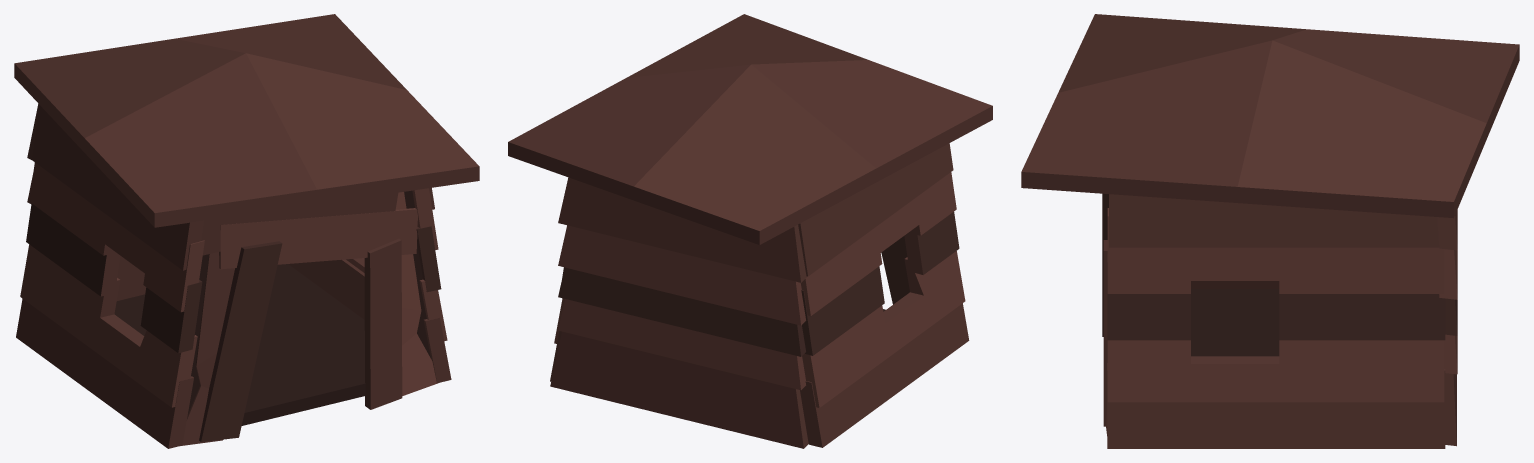
Rendered from treehouse.glb.
3 renders of one model, left to right at view 1: azimuth 30°, elevation 25°; view 2: azimuth 150°, elevation 25°; view 3: azimuth 270°, elevation 25°, orthographic. The views are drawn at different scales.
Visible parts, largest first — view 1: Cube.010, Cube.012, Cube.024, Cube.002, Cube.001, Cube.003, Cube.009, Cube.007, Cube.004, Cube.006, Cube.022, Cube.008 (+1 smaller); view 2: Cube.010, Cube.022, Cube.012, Cube.002; view 3: Cube.010, Cube.009, Cube.024, Cube.022, Cube.003, Cube.012.
Part boxes in pixels (x1=…): Cube.010: x1=14, y1=14, x2=479, y2=227; Cube.012: x1=16, y1=105, x2=204, y2=448; Cube.024: x1=114, y1=264, x2=365, y2=425; Cube.002: x1=199, y1=241, x2=282, y2=441; Cube.001: x1=219, y1=208, x2=417, y2=269; Cube.003: x1=364, y1=238, x2=402, y2=409; Cube.009: x1=288, y1=188, x2=451, y2=383; Cube.007: x1=181, y1=252, x2=234, y2=445; Cube.004: x1=395, y1=192, x2=438, y2=395; Cube.006: x1=201, y1=192, x2=398, y2=255; Cube.022: x1=27, y1=104, x2=146, y2=300; Cube.008: x1=187, y1=254, x2=209, y2=414; Cube.010: x1=508, y1=14, x2=992, y2=244; Cube.022: x1=550, y1=177, x2=808, y2=448; Cube.012: x1=798, y1=143, x2=969, y2=447; Cube.002: x1=881, y1=236, x2=909, y2=304; Cube.010: x1=1021, y1=14, x2=1519, y2=218; Cube.009: x1=1107, y1=194, x2=1445, y2=448; Cube.024: x1=1191, y1=289, x2=1279, y2=356; Cube.022: x1=1437, y1=210, x2=1457, y2=446; Cube.003: x1=1103, y1=240, x2=1107, y2=426; Cube.012: x1=1191, y1=281, x2=1279, y2=288.
Bounding box in the file's own units: 5.37 × 4.7 × 6.11.
